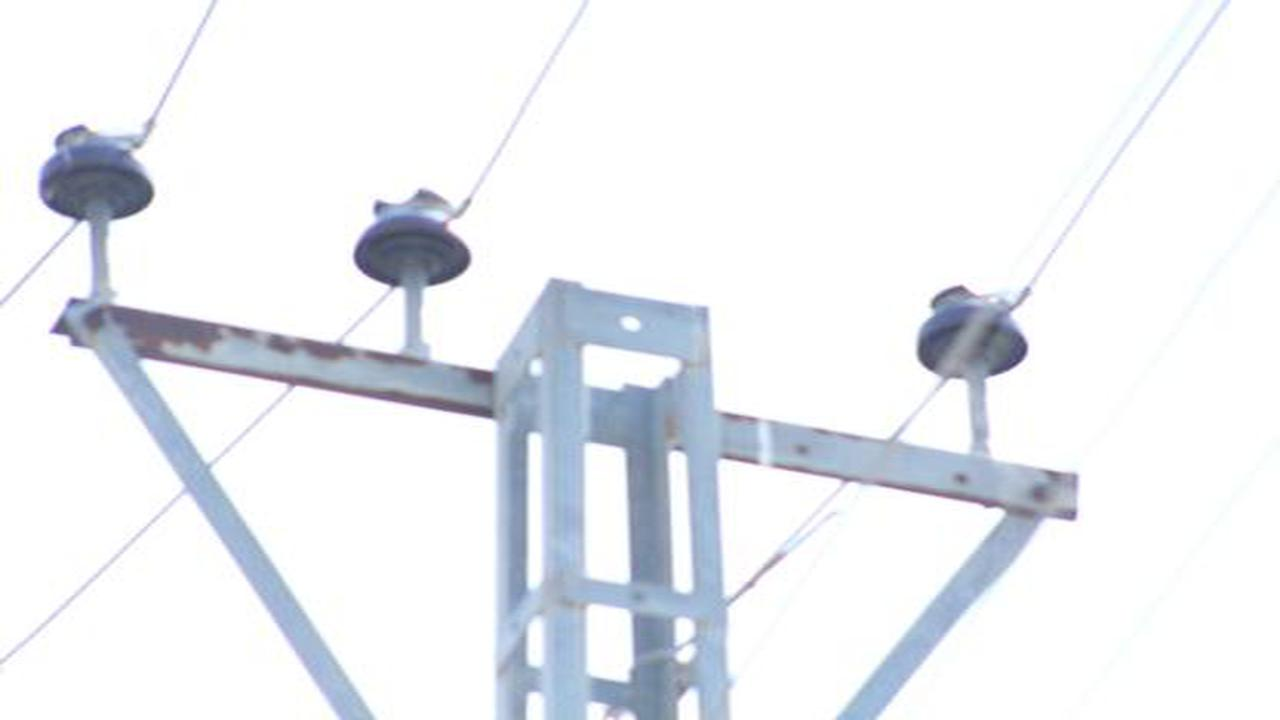insulator_pin: (346, 183, 478, 293), (35, 117, 159, 225), (909, 283, 1034, 384)
